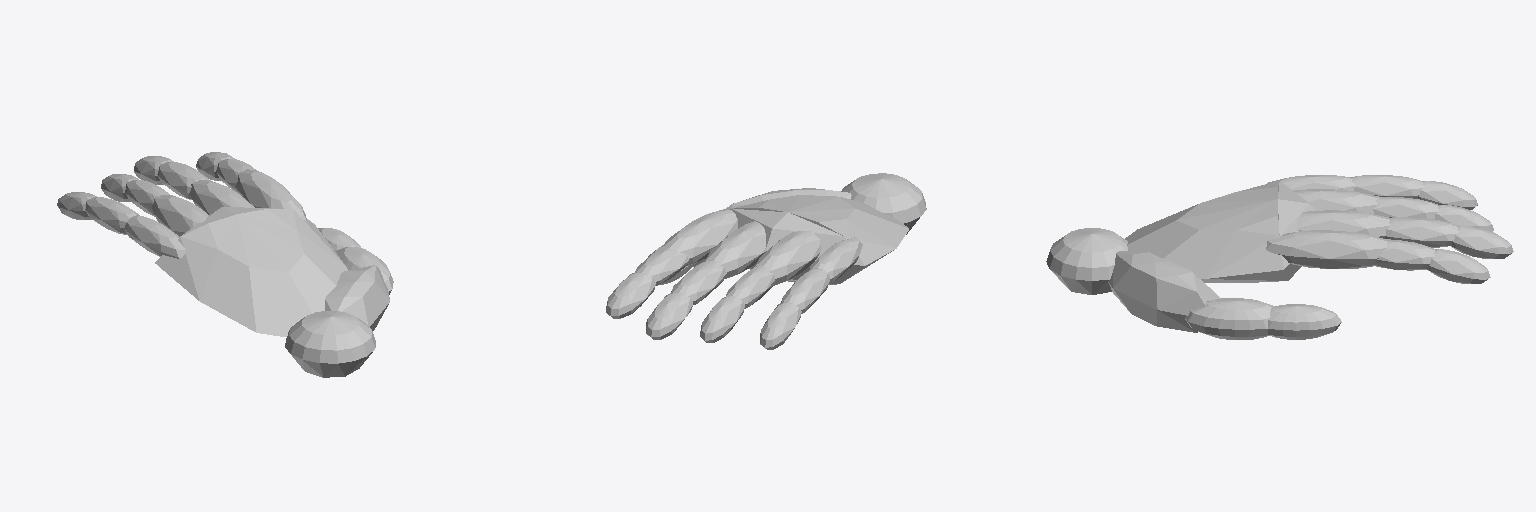
File: L_ARM_HAND.obj
3 renders of one model, left to right at view 1: azimuth 30°, elevation 25°; view 2: azimuth 150°, elevation 25°; view 3: azimuth 270°, elevation 25°, orthographic.
Size of the model in its own units: 0.116 by 0.049 by 0.2186.